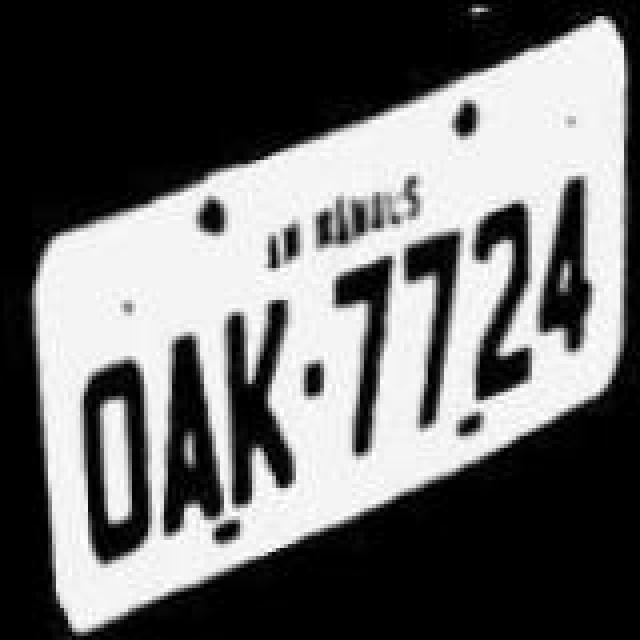2: (454, 198, 542, 410)
4: (528, 160, 608, 364)
7: (320, 244, 408, 464), (392, 216, 476, 428)
A: (146, 320, 226, 540)
K: (218, 286, 302, 510)
O: (64, 344, 156, 580)
